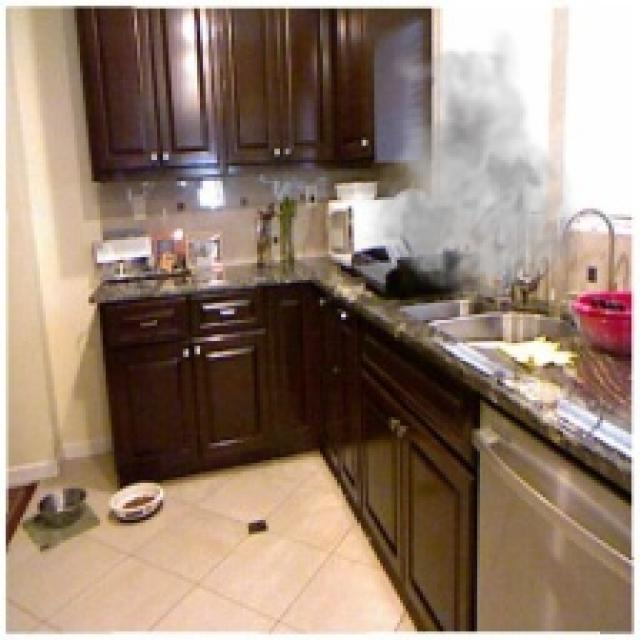smoke: (351, 28, 586, 306)
